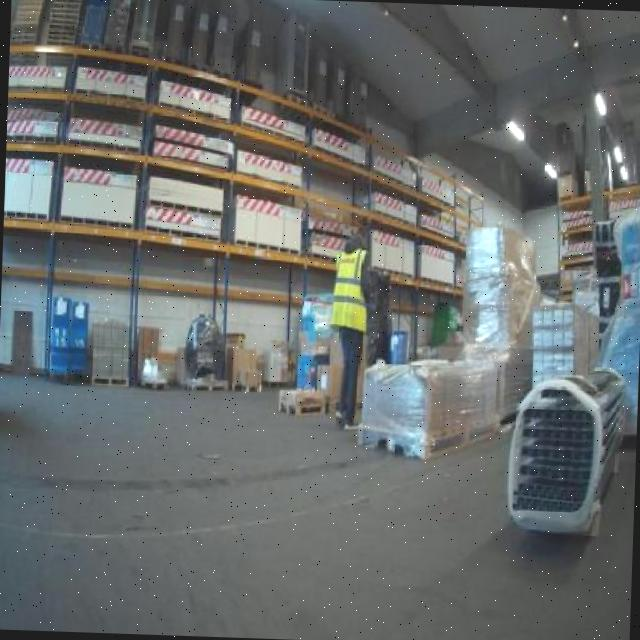pallet: (350, 408, 508, 469), (134, 216, 231, 244), (270, 395, 331, 423), (177, 376, 230, 395), (86, 370, 134, 389), (224, 376, 266, 396)
